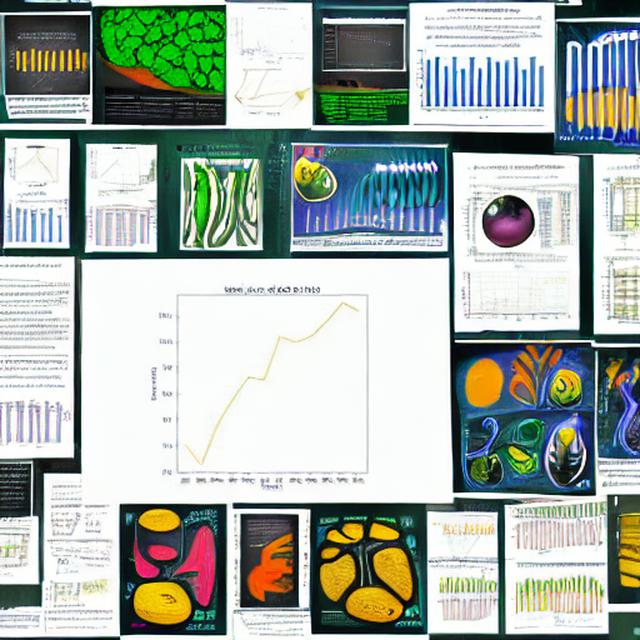Graph: (100, 267, 436, 498), (410, 41, 551, 123), (457, 257, 575, 326), (4, 30, 90, 95), (230, 5, 310, 65), (325, 24, 403, 70), (6, 143, 65, 187), (438, 513, 495, 547)
